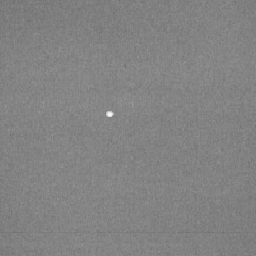Target: (104, 110, 115, 119)
